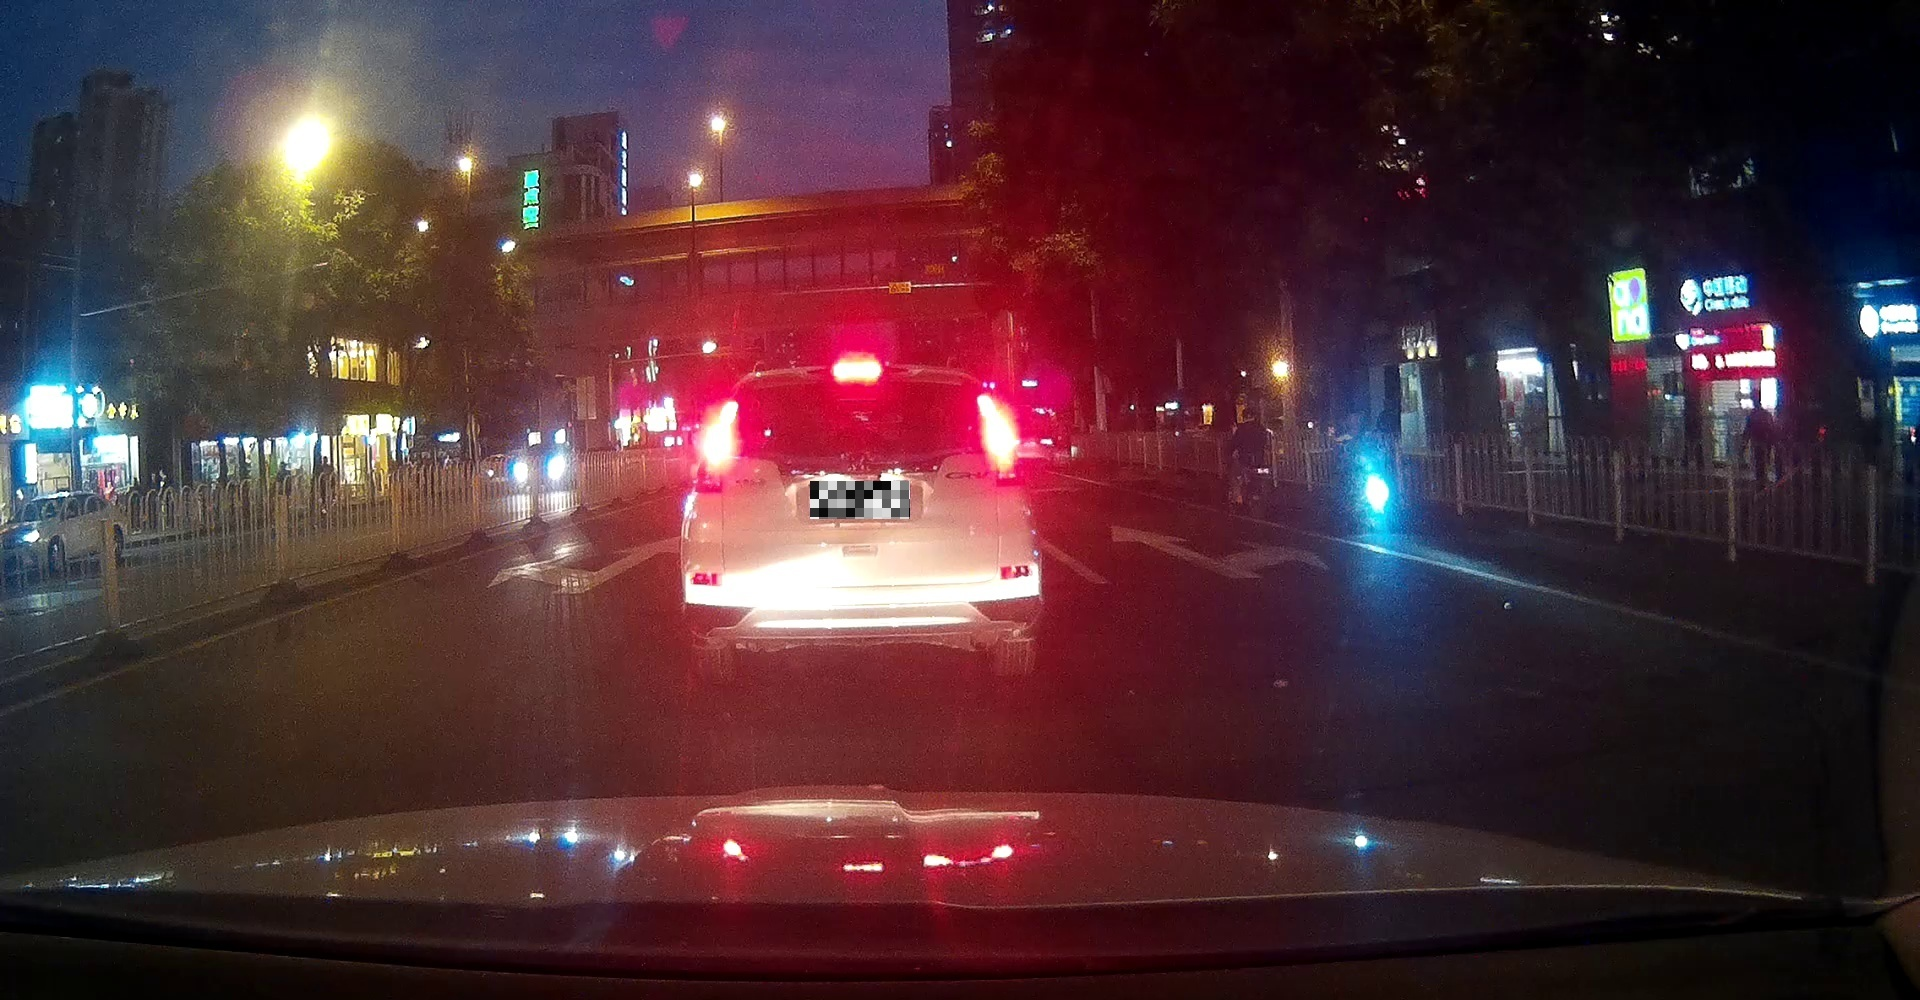L_light: (693, 470, 748, 496)
R_light: (979, 468, 1027, 489)
T_light: (832, 367, 881, 383)
night-brake: (681, 365, 1043, 689)
plate_1: (810, 481, 910, 519)
